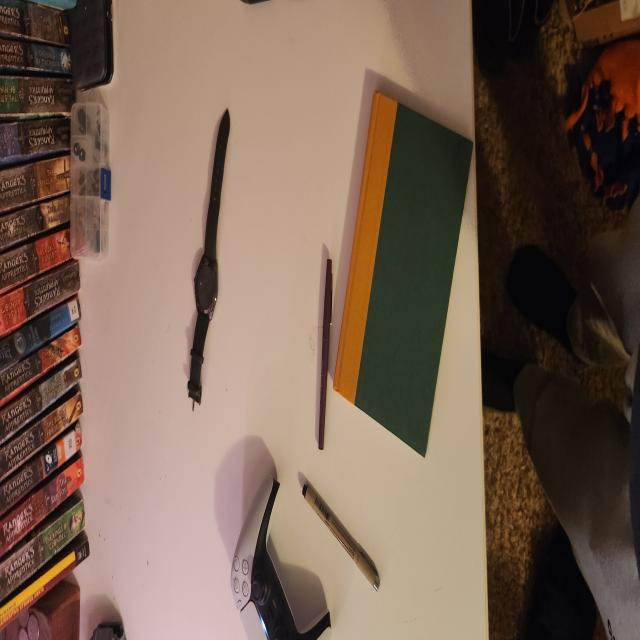Book: (331, 88, 473, 460)
Controller: (247, 498, 317, 640)
Pen: (292, 472, 385, 596), (316, 247, 333, 451)
Watch: (188, 112, 231, 407)
